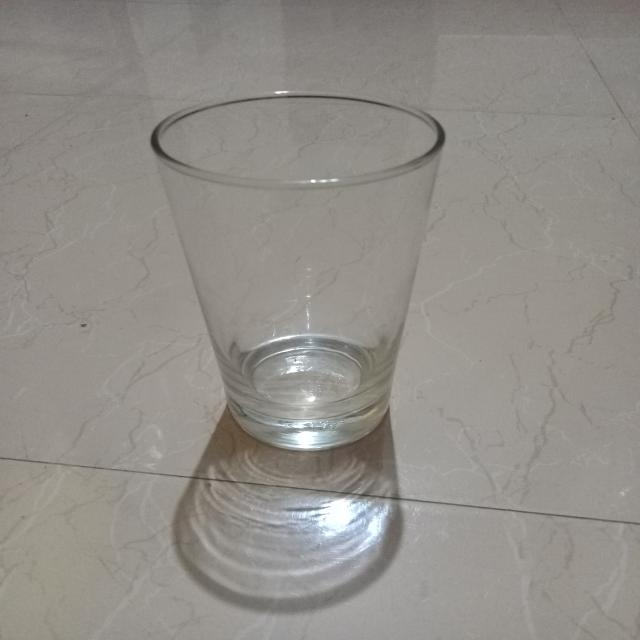Glass: (146, 85, 447, 455)
